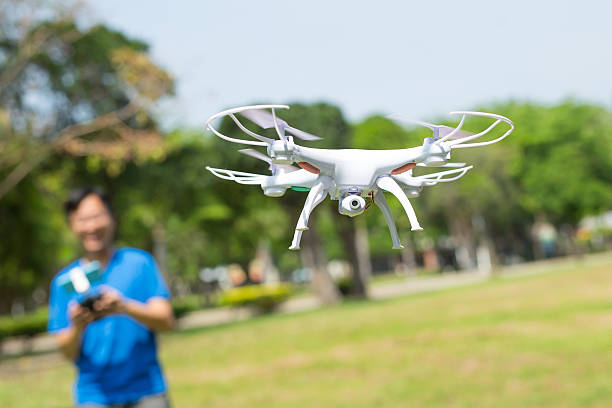Drone: (204, 100, 517, 252)
